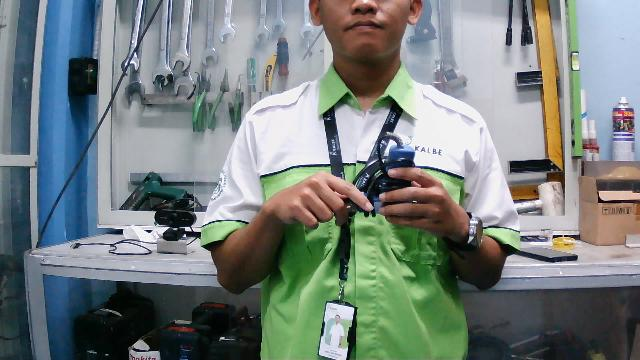solder_electrical: (343, 130, 418, 218)
